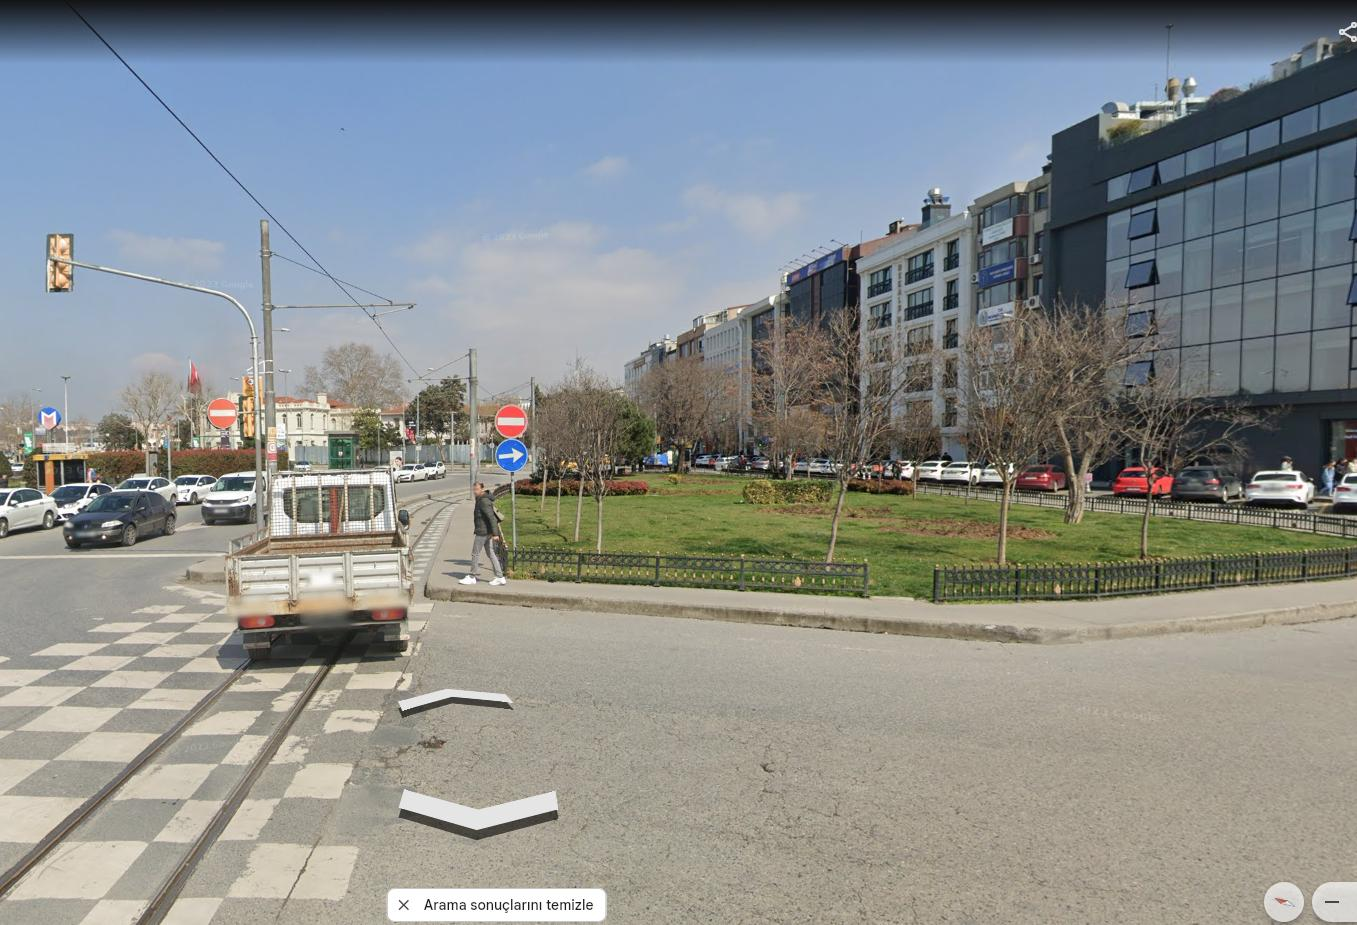turnright: (496, 438, 529, 471)
